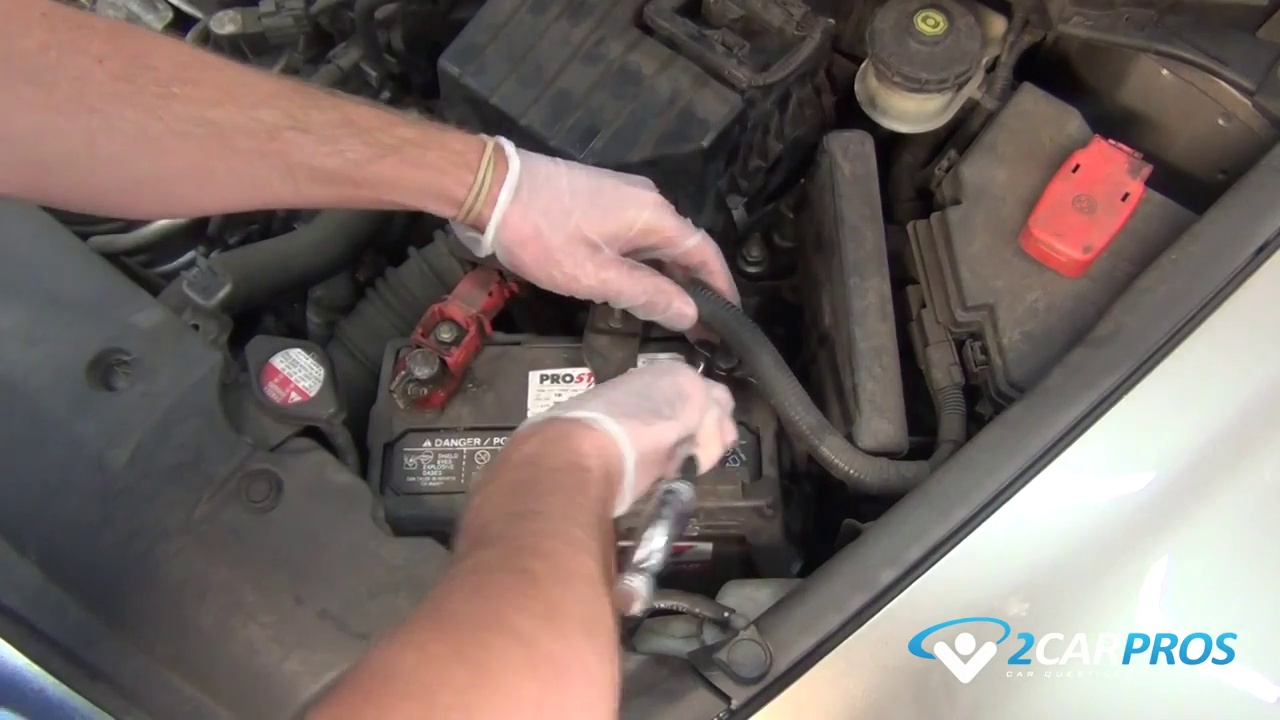battery: (378, 303, 785, 528)
pos_connected: (397, 274, 495, 417)
